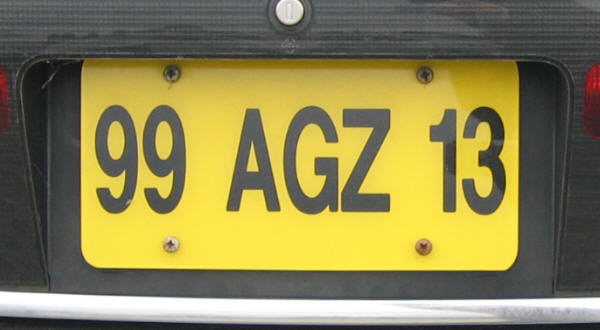license_plate: (78, 58, 521, 271)
